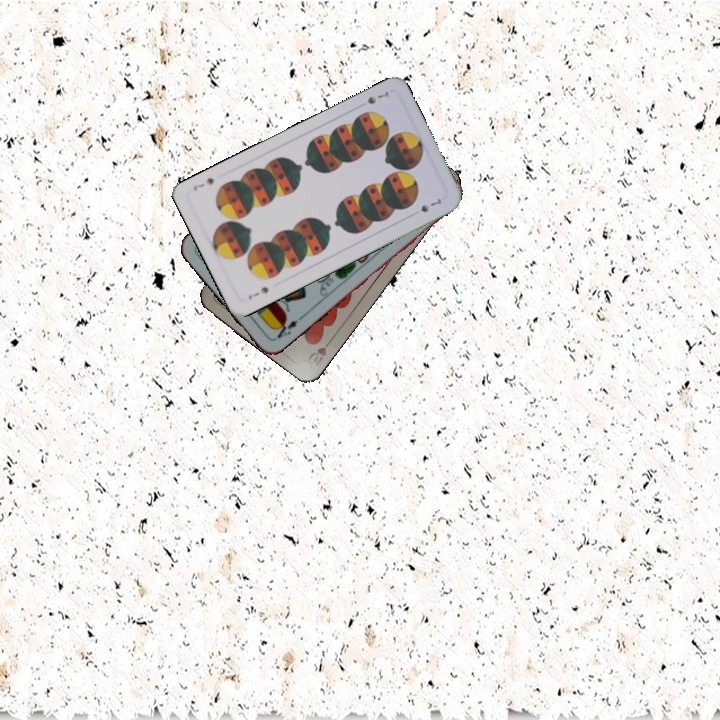EA: (271, 313, 305, 341)
H10: (303, 334, 335, 372)
S7: (363, 87, 391, 107), (244, 283, 271, 302)
